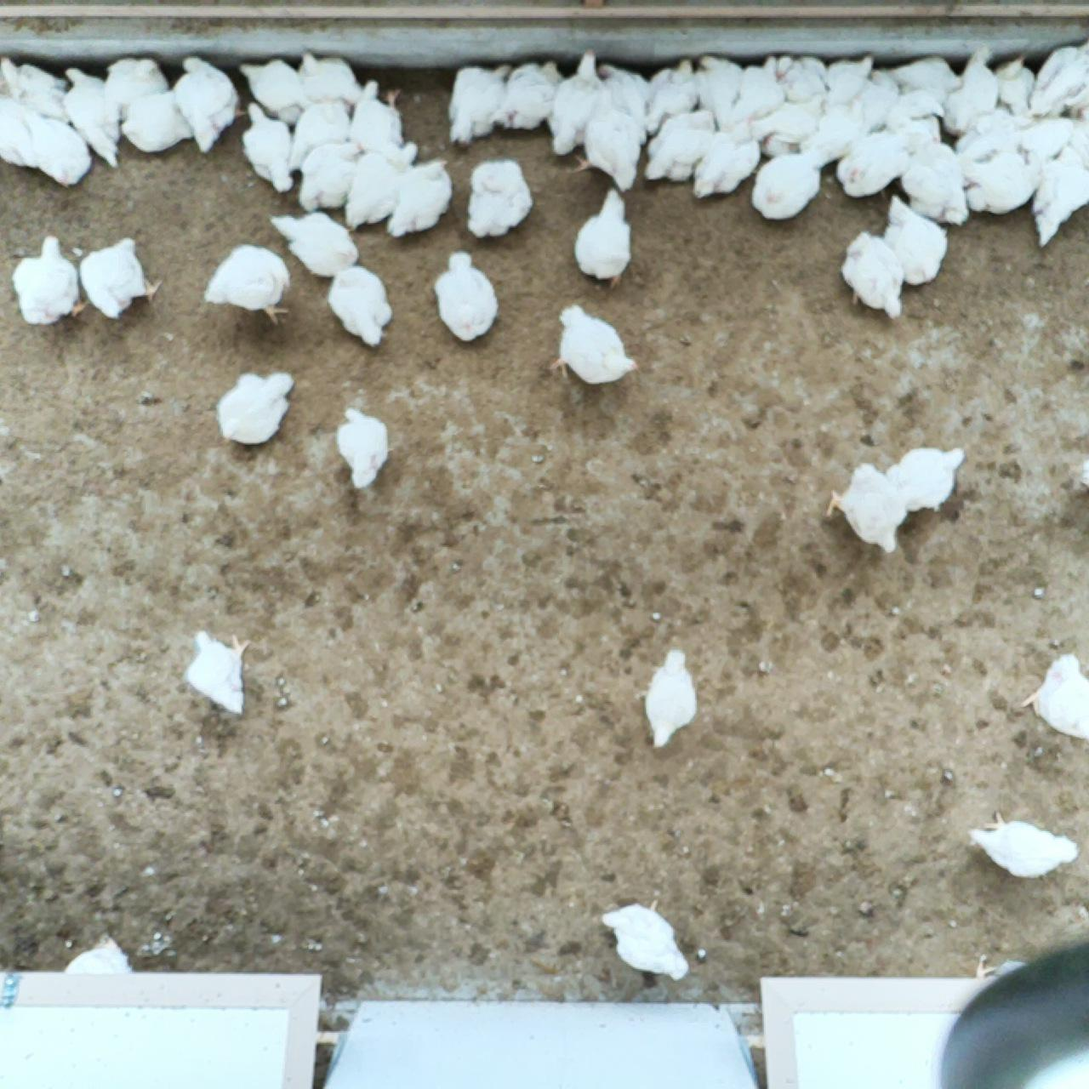chicken: (598, 891, 691, 983), (965, 808, 1081, 881), (548, 300, 640, 389), (824, 461, 909, 555), (202, 243, 295, 327), (7, 232, 88, 328), (174, 55, 248, 160), (79, 234, 166, 322), (344, 137, 419, 233), (60, 63, 124, 174), (182, 627, 257, 718), (636, 647, 701, 750), (430, 250, 501, 344), (571, 186, 636, 287), (1017, 652, 1089, 743), (883, 192, 951, 287), (573, 103, 644, 193), (545, 47, 602, 158), (905, 132, 972, 225), (464, 157, 536, 243), (216, 371, 297, 447), (267, 208, 358, 275), (444, 61, 514, 148), (840, 230, 908, 319), (327, 262, 395, 349), (690, 118, 757, 205), (1031, 147, 1089, 247), (747, 150, 824, 225), (939, 43, 1000, 136), (385, 157, 454, 238), (294, 138, 366, 215), (886, 446, 966, 514), (23, 111, 95, 186), (284, 96, 353, 173), (644, 110, 716, 181), (242, 99, 295, 194), (496, 58, 563, 133), (336, 405, 395, 489), (1031, 36, 1089, 120), (725, 53, 785, 132), (119, 91, 194, 154), (1, 56, 72, 122), (644, 59, 701, 141), (832, 133, 900, 201), (348, 77, 409, 151), (238, 57, 305, 121), (801, 99, 864, 165), (104, 55, 170, 115), (594, 60, 652, 127), (297, 50, 360, 106), (754, 94, 825, 142), (964, 168, 1035, 215), (992, 48, 1040, 117), (0, 95, 41, 170), (959, 116, 1021, 165), (889, 56, 963, 97), (694, 54, 738, 120), (63, 934, 135, 974), (881, 88, 945, 131), (853, 67, 898, 128), (774, 54, 828, 103), (884, 104, 940, 147), (831, 50, 878, 100), (1018, 116, 1076, 155)
